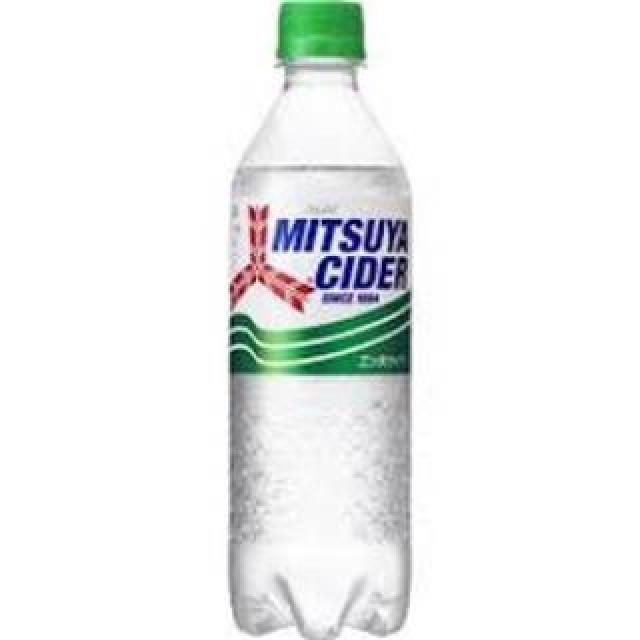Pet_Bottle: (225, 0, 429, 640)
